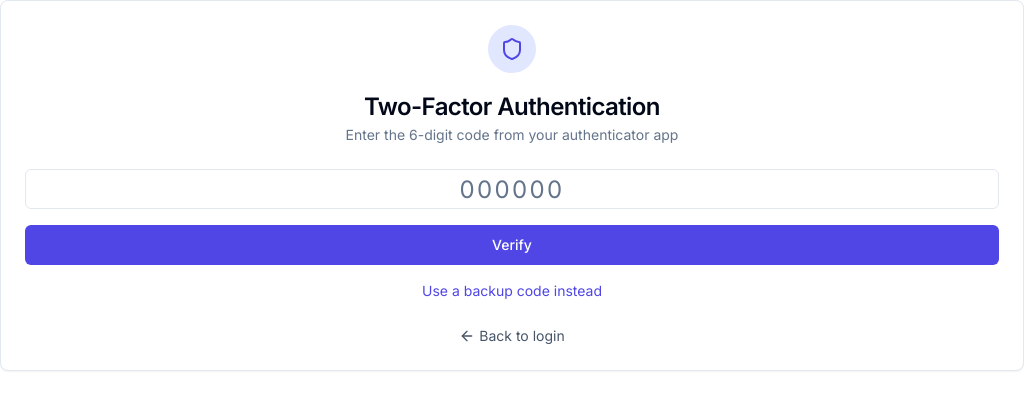
Test: TwoFactorPage › TOTP Verification › should validate code format
In the field with placeholder "000000": (512,189) [25,169,999,209], type "123"
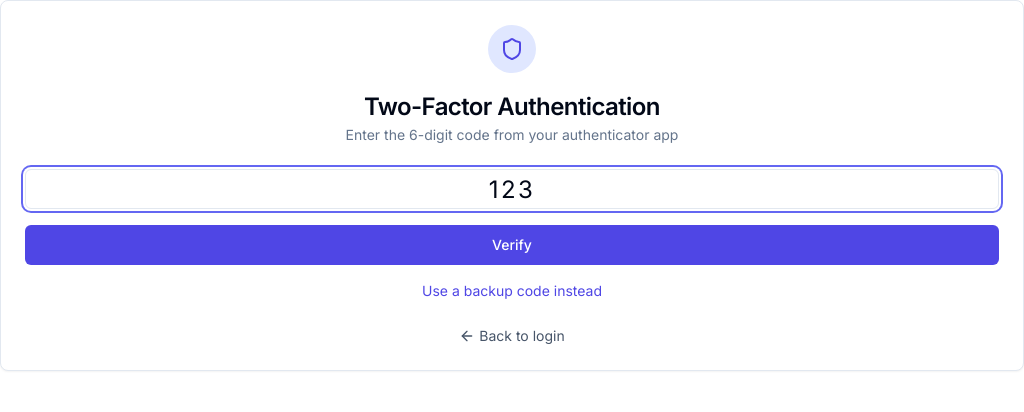
Click the button "Verify": (512,245) [25,225,999,265]
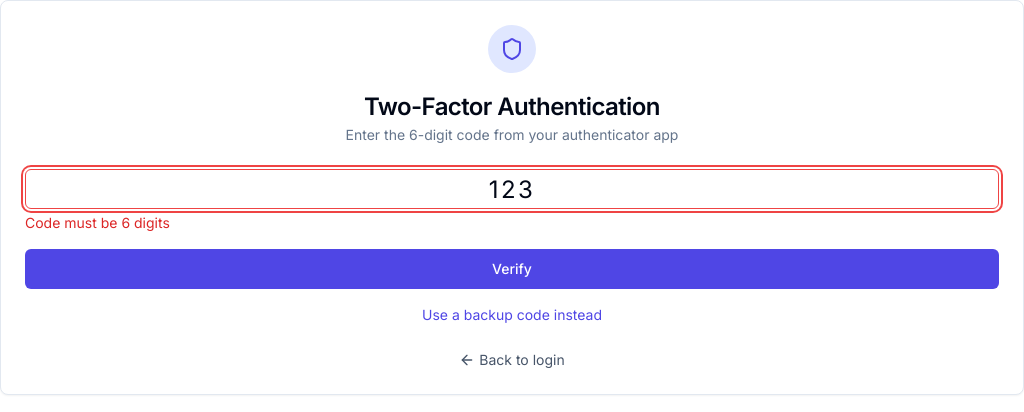
Expected: the text "Code must be 6 digits" is shown, [25,214,170,231]
